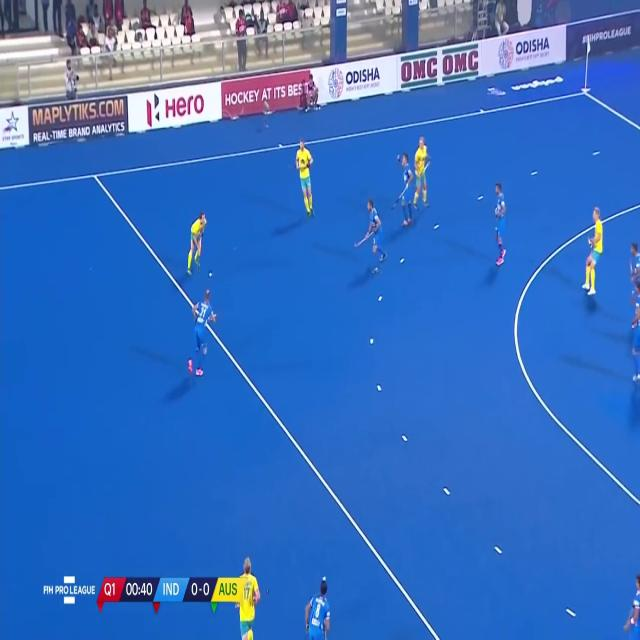ball: (206, 270, 214, 280)
